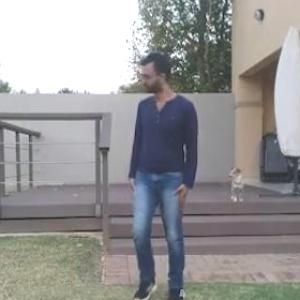follow: (104, 37, 200, 278)
